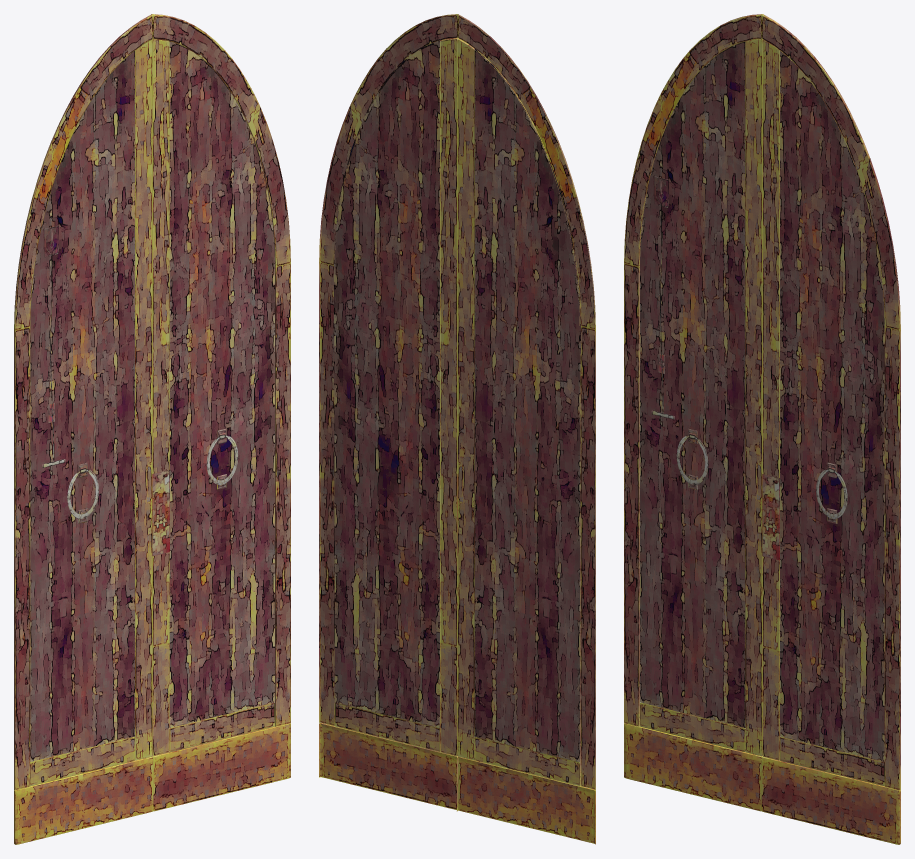
The model's file is Door_Compressed.glb.
3 renders of one model, left to right at view 1: azimuth 30°, elevation 25°; view 2: azimuth 150°, elevation 25°; view 3: azimuth 330°, elevation 25°, orthographic.
Visible parts, largest first — view 1: Gate; view 2: Gate; view 3: Gate.
Boxes of the visible parts, <box> form: Gate: <box>14,14,290,844</box>; Gate: <box>319,14,595,844</box>; Gate: <box>624,14,900,844</box>.
Bounding box in the file's own units: 11.86 × 32.71 × 0.0963.
1 material, 1 textured.
